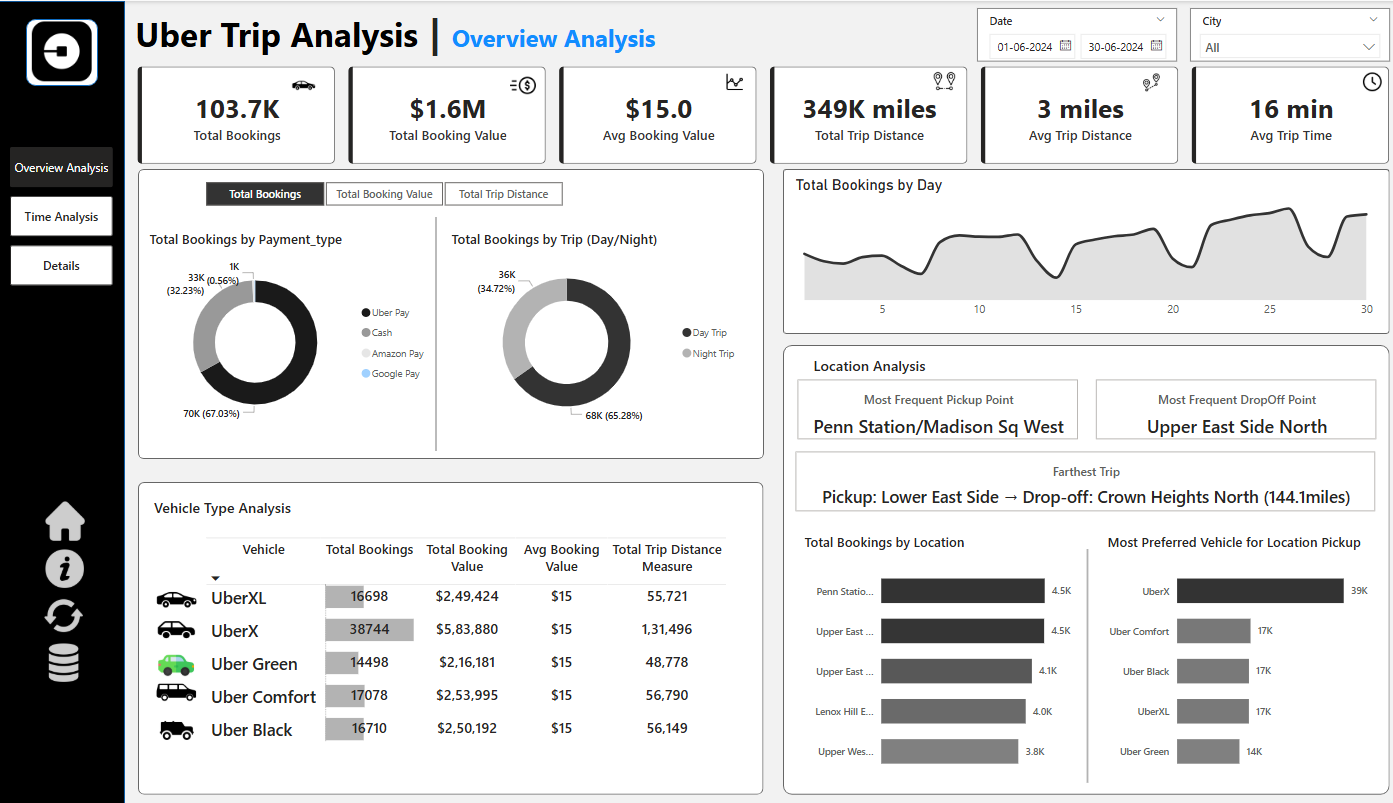

The page's visual inventory and layout, read from the dashboard file:
{"tool":"powerbi","page":{"name":"Overview Analysis","canvas":[1600,900],"ordinal":0},"visuals":[{"type":"shape","box":[0,0,142.2,900],"z":0},{"type":"image","box":[48.1,555.2,53.7,53.7],"z":0,"group":"g1"},{"type":"textbox","box":[142,0,605,68.1],"z":1000},{"type":"image","box":[48.1,608.9,52.6,52.6],"z":1000,"group":"g1"},{"type":"cardVisual","fields":{"Data":["Trip Details.Total Bookings","Trip Details.Total Booking Value","Trip Details.Avg Booking Value","Trip Details.Total Trip Distance","Trip Details.Avg Trip Distance","Trip Details.Avg Trip Time"]},"box":[151.1,68.3,1416,119.8],"z":2000},{"type":"image","box":[47,661.5,53.7,52.6],"z":2000,"group":"g1"},{"type":"image","box":[564.2,75,47,39.2],"z":3000},{"type":"image","box":[47,714.2,52.6,52.6],"z":3000,"group":"g1"},{"type":"image","box":[1035.4,72.8,48.1,33.6],"z":4000},{"type":"image","box":[1263.8,76.1,56,30.2],"z":5000},{"type":"image","box":[1517.9,75,40.3,31.3],"z":6000},{"type":"image","box":[798.1,75,52.6,31.3],"z":7000},{"type":"image","box":[307.8,75,68.3,39.2],"z":8000},{"type":"shape","box":[156.7,188.1,700.7,324.6],"z":9000},{"type":"slicer","fields":{"Values":["Dynamic Measure.Dynamic Measure"]},"box":[206.9,196.1,448.7,35.8],"z":10000},{"type":"donutChart","fields":{"Y":["Trip Details.Total Bookings"],"Category":["Trip Details.Payment_type"]},"box":[164.6,256.3,325.7,231.7],"z":11000},{"type":"donutChart","fields":{"Y":["Trip Details.Total Bookings"],"Category":["Trip Details.Trip Type (Day/Night)"]},"box":[502.6,256.3,335.8,231.7],"z":12000},{"type":"shape","box":[156.7,538.4,700.7,350.4],"z":13000},{"type":"pivotTable","fields":{"Rows":["Trip Details.Vehicle"],"Values":["Trip Details.Total Bookings","Trip Details.Total Booking Value","Trip Details.Avg Booking Value","Trip Details.Total Trip Distance Measure"]},"box":[228.4,595.5,610.1,245.1],"z":14000},{"type":"image","box":[160,640.3,79.5,60.4],"z":15000},{"type":"image","box":[160,677.2,79.5,52.6],"z":16000},{"type":"image","box":[163.9,718.7,71.6,50.4],"z":17000},{"type":"image","box":[167.8,744.4,63.8,59.3],"z":18000},{"type":"image","box":[170.1,792.5,59.3,48.1],"z":19000},{"type":"shape","box":[878.7,188.1,679.5,184.7],"z":20000},{"type":"card","fields":{"Values":["Trip Details.Title for Grid"]},"box":[164.6,551.9,173.5,34.7],"z":21000},{"type":"shape","box":[878.7,385.1,679.5,503.7],"z":22000},{"type":"areaChart","fields":{"Category":["Calendar.Date.Variation.Date Hierarchy.Day"],"Y":["Trip Details.Total Bookings"]},"box":[887.7,195.9,659.3,167.9],"z":23000},{"type":"cardVisual","fields":{"Data":["Trip Details.Most Frequent Pickup Point","Trip Details.Most Frequent DropOff Point"]},"box":[889.9,418.7,659.3,77.2],"z":24000},{"type":"cardVisual","fields":{"Data":["Trip Details.Farthest Trip"]},"box":[887.7,499.3,659.3,77.2],"z":25000},{"type":"barChart","fields":{"Category":["Location Table.Location"],"Y":["Trip Details.Total Bookings"]},"box":[897.8,595.5,312.3,283.2],"z":26000},{"type":"barChart","title":"Most Preferred Vehicle for Location Pickup","fields":{"Category":["Trip Details.Vehicle"],"Y":["CountNonNull(Trip Details.PULocationID)"]},"box":[1236.9,595.5,310.1,283.2],"z":27000},{"type":"shape","box":[482.5,241.8,15.7,261.9],"z":28000},{"type":"shape","box":[1210.1,613.4,19,261.9],"z":29000},{"type":"card","fields":{"Values":["Trip Details.Title for Location"]},"box":[888.8,392.9,173.5,34.7],"z":30000},{"type":"slicer","fields":{"Values":["Calendar.Date"]},"box":[1095.9,7.8,223.9,60.4],"z":31000},{"type":"slicer","fields":{"Values":["Location Table.City"]},"box":[1334.3,7.8,223.9,60.4],"z":32000},{"type":"shape","box":[31.3,20.1,80.6,75],"z":33000},{"type":"image","box":[26.9,17.9,88.4,77.2],"z":34000},{"type":"pageNavigator","box":[13.4,163.4,115.3,155.6],"z":35000},{"type":"group","id":"g1","title":"Group 1","box":[47,555.2,54.9,211.6],"z":36000}]}

Visuals, with their boxes on the page's 1600x900 design canvas (x1, y1, x2, y2). These are canvas units, not pixel positions in the 1393x803 screenshot, which may show the page scaled, cropped or inside an application window:
shape: (x1=0, y1=0, x2=142, y2=900)
image: (x1=48, y1=555, x2=102, y2=609)
textbox: (x1=142, y1=0, x2=747, y2=68)
image: (x1=48, y1=609, x2=101, y2=662)
cardVisual - Trip Details.Total Bookings x Trip Details.Total Booking Value: (x1=151, y1=68, x2=1567, y2=188)
image: (x1=47, y1=662, x2=101, y2=714)
image: (x1=564, y1=75, x2=611, y2=114)
image: (x1=47, y1=714, x2=100, y2=767)
image: (x1=1035, y1=73, x2=1084, y2=106)
image: (x1=1264, y1=76, x2=1320, y2=106)
image: (x1=1518, y1=75, x2=1558, y2=106)
image: (x1=798, y1=75, x2=851, y2=106)
image: (x1=308, y1=75, x2=376, y2=114)
shape: (x1=157, y1=188, x2=857, y2=513)
slicer - Dynamic Measure.Dynamic Measure: (x1=207, y1=196, x2=656, y2=232)
donutChart - Trip Details.Total Bookings x Trip Details.Payment_type: (x1=165, y1=256, x2=490, y2=488)
donutChart - Trip Details.Total Bookings x Trip Details.Trip Type (Day/Night): (x1=503, y1=256, x2=838, y2=488)
shape: (x1=157, y1=538, x2=857, y2=889)
pivotTable - Trip Details.Vehicle x Trip Details.Total Bookings: (x1=228, y1=596, x2=838, y2=841)
image: (x1=160, y1=640, x2=240, y2=701)
image: (x1=160, y1=677, x2=240, y2=730)
image: (x1=164, y1=719, x2=236, y2=769)
image: (x1=168, y1=744, x2=232, y2=804)
image: (x1=170, y1=792, x2=229, y2=841)
shape: (x1=879, y1=188, x2=1558, y2=373)
card - Trip Details.Title for Grid: (x1=165, y1=552, x2=338, y2=587)
shape: (x1=879, y1=385, x2=1558, y2=889)
areaChart - Calendar.Date.Variation.Date Hierarchy.Day x Trip Details.Total Bookings: (x1=888, y1=196, x2=1547, y2=364)
cardVisual - Trip Details.Most Frequent Pickup Point x Trip Details.Most Frequent DropOff Point: (x1=890, y1=419, x2=1549, y2=496)
cardVisual - Trip Details.Farthest Trip: (x1=888, y1=499, x2=1547, y2=576)
barChart - Location Table.Location x Trip Details.Total Bookings: (x1=898, y1=596, x2=1210, y2=879)
"Most Preferred Vehicle for Location Pickup" barChart: (x1=1237, y1=596, x2=1547, y2=879)
shape: (x1=482, y1=242, x2=498, y2=504)
shape: (x1=1210, y1=613, x2=1229, y2=875)
card - Trip Details.Title for Location: (x1=889, y1=393, x2=1062, y2=428)
slicer - Calendar.Date: (x1=1096, y1=8, x2=1320, y2=68)
slicer - Location Table.City: (x1=1334, y1=8, x2=1558, y2=68)
shape: (x1=31, y1=20, x2=112, y2=95)
image: (x1=27, y1=18, x2=115, y2=95)
pageNavigator: (x1=13, y1=163, x2=129, y2=319)
"Group 1" group: (x1=47, y1=555, x2=102, y2=767)
